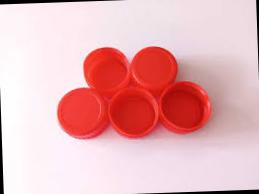Plastik: (159, 81, 211, 135), (55, 88, 109, 139), (108, 87, 159, 139), (83, 48, 131, 100), (130, 46, 177, 92)
